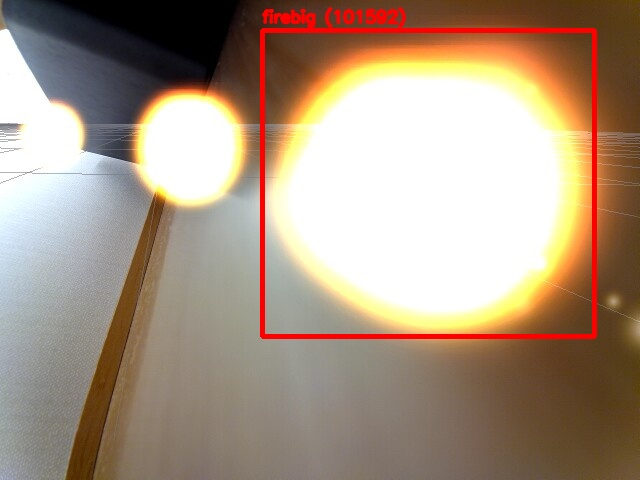firebig: (262, 30, 594, 336)
